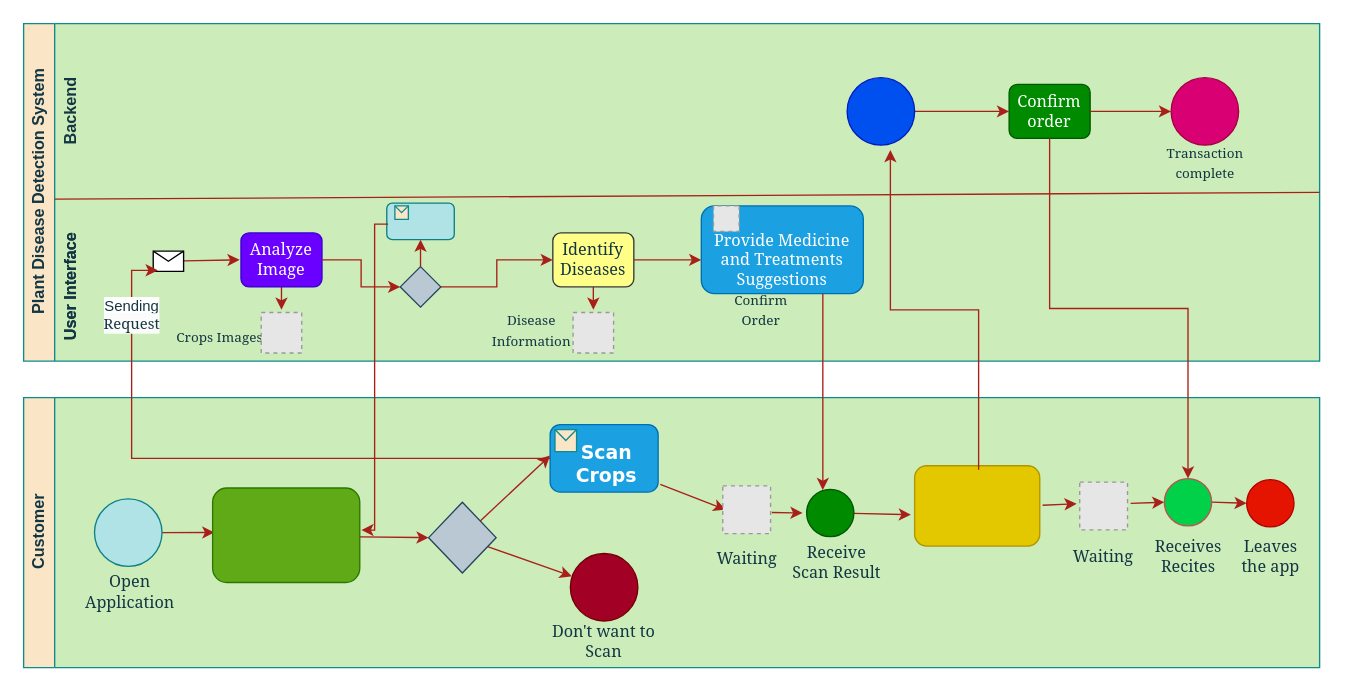
The diagram is 1345 pixels wide and 691 high, and some of its shapes have lost their labels. Grey dashed boxes stand in for pictures. Each missing label, with the centre of its shape:
"No Result Found" goes at (419,221).
"Online Payment" goes at (976,505).
"Register Crops" goes at (285,535).
